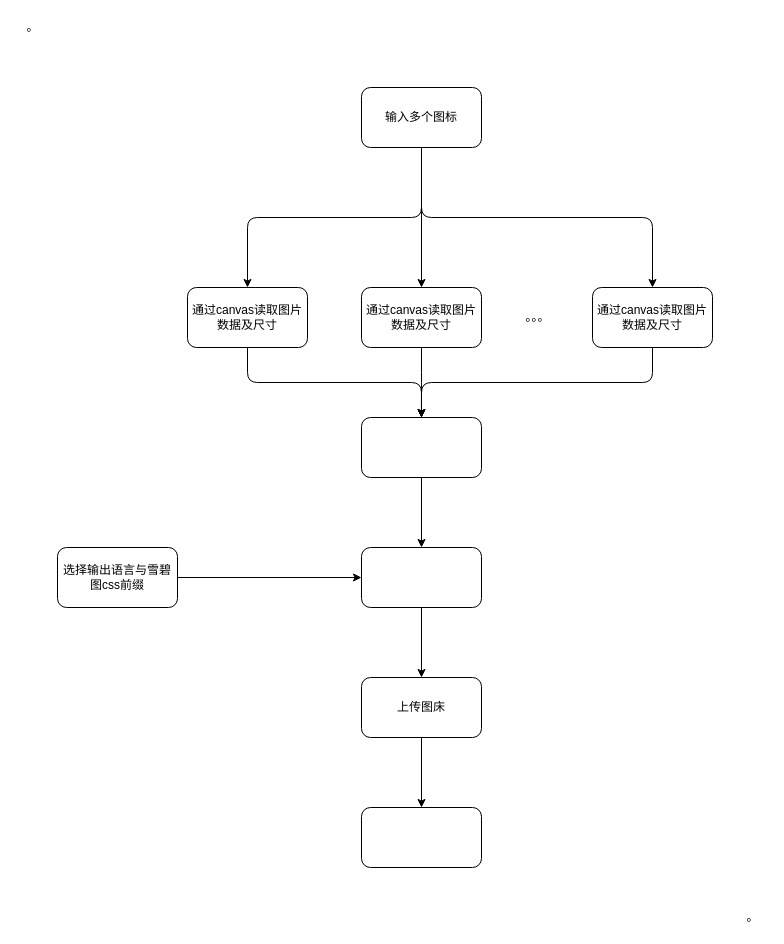
Some shapes in this 784 by 944 pixel diagram are drawn without their labels. Here are the shapes that lost their labels. From the top down, the centre of each, then its label:
At pixel 421 447: "通过二叉树算法对图标进行布局，使雪碧图尺寸尽量小".
At pixel 421 577: "通过canvas聚合图片，生成雪碧图".
At pixel 421 837: "输出可供开发人员使用的代码".
